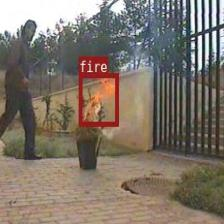fire: (78, 72, 118, 126)
